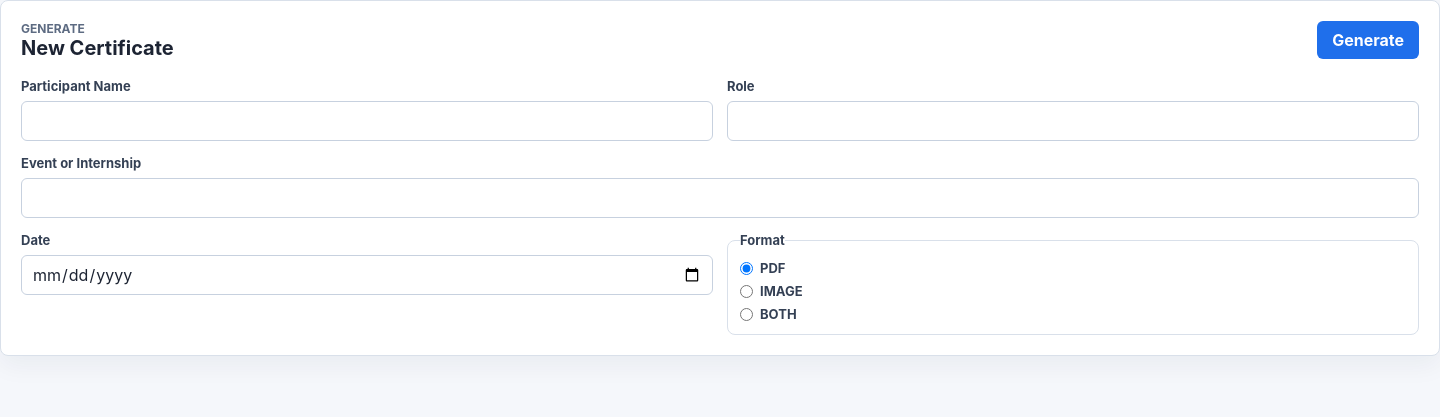
Test case: CertificateForm › shows validation errors for empty required fields
The width and height of the screenshot is (1440, 417).
Click the button "Generate".
click(1368, 40)  # box [1317,21,1419,59]
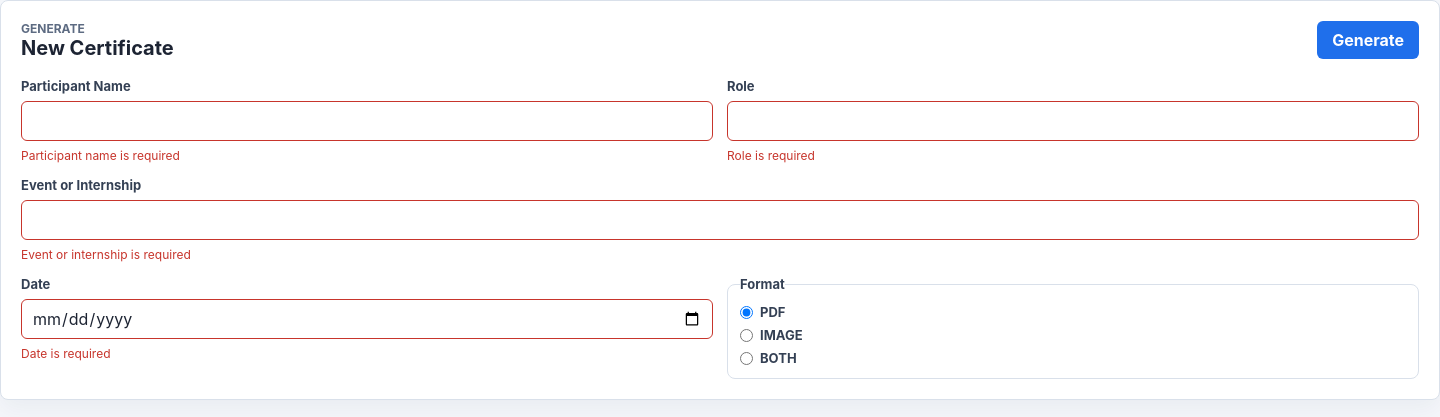
Result: the text "Participant name is required" is shown at [21,148,180,163]
Result: the text "Role is required" is shown at [727,148,815,163]
Result: the text "Event or internship is required" is shown at [21,247,191,262]
